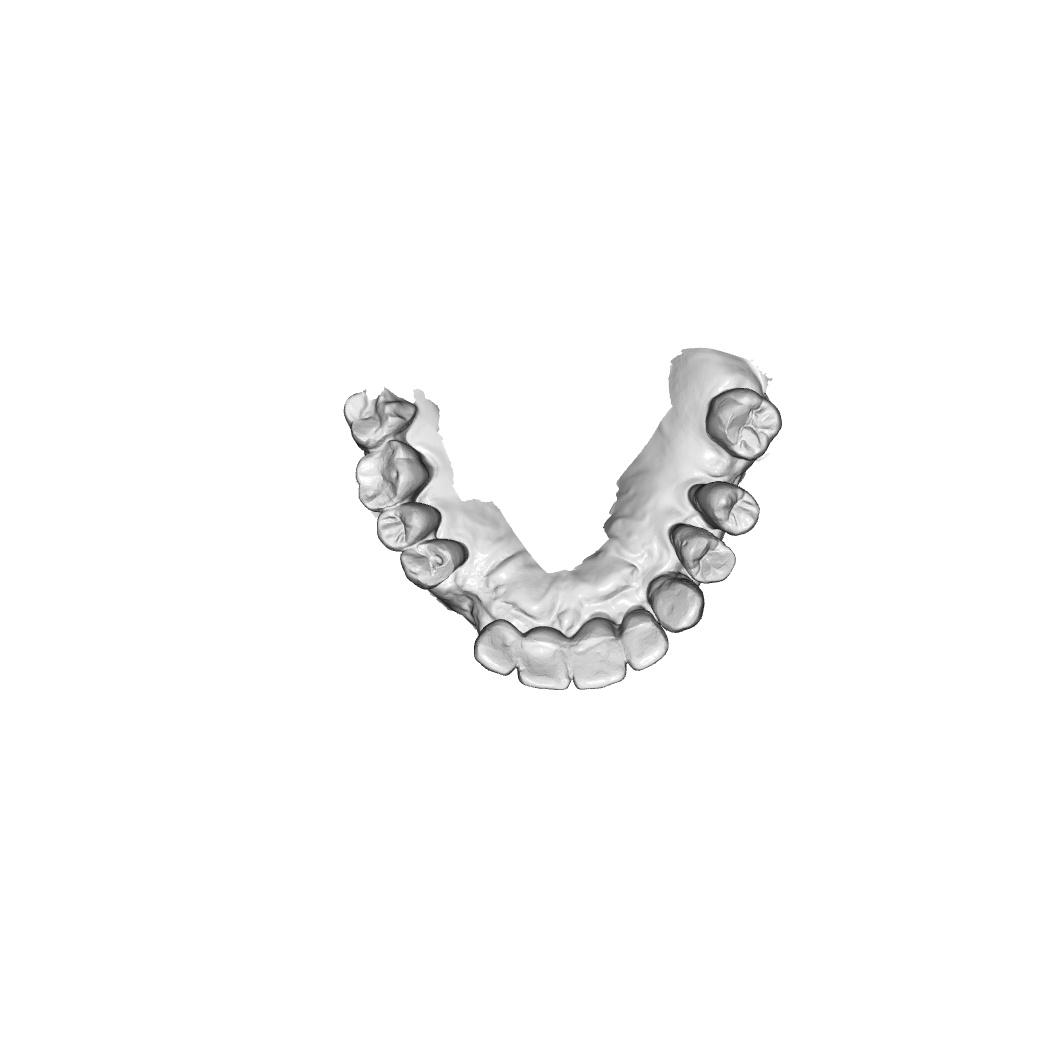canine: (647, 571, 706, 634)
incisor: (571, 616, 628, 691), (516, 625, 571, 692), (619, 608, 669, 672), (473, 618, 519, 677)
molar: (704, 386, 783, 461), (354, 438, 431, 512), (343, 387, 419, 450)
premolar: (687, 480, 761, 537), (669, 522, 737, 584), (399, 537, 466, 590), (376, 501, 442, 553)
